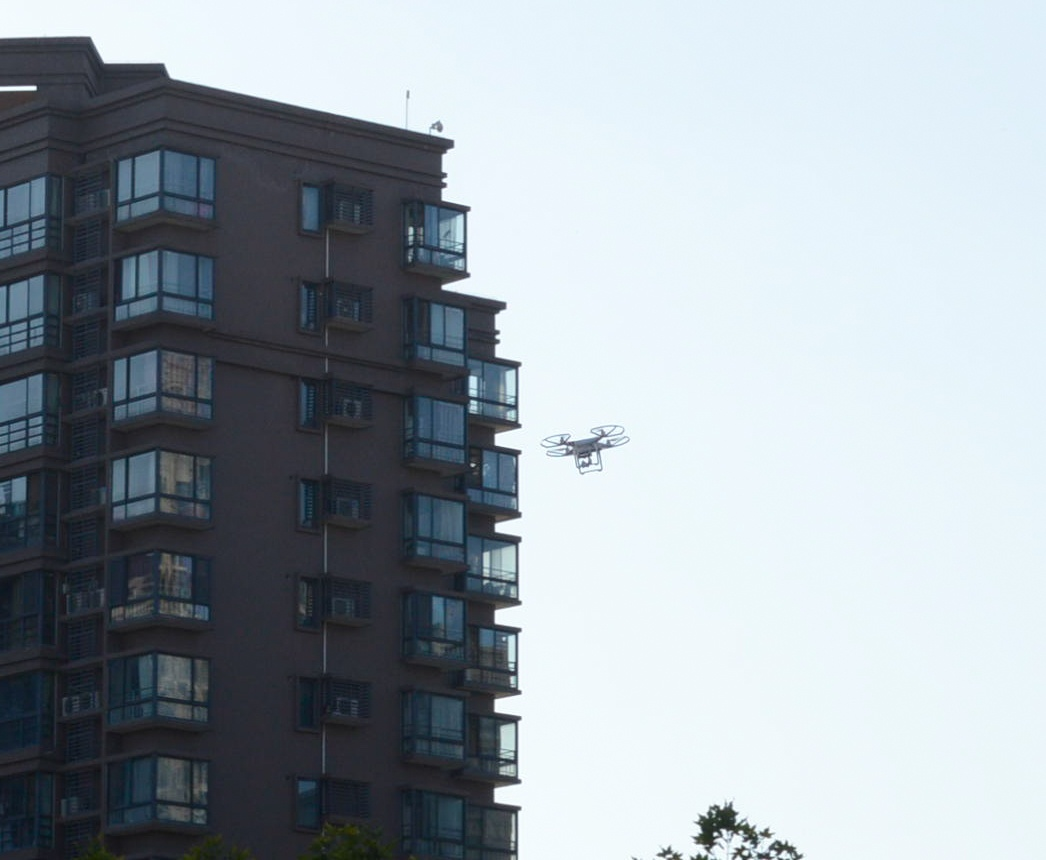DJI: (540, 422, 634, 474)
